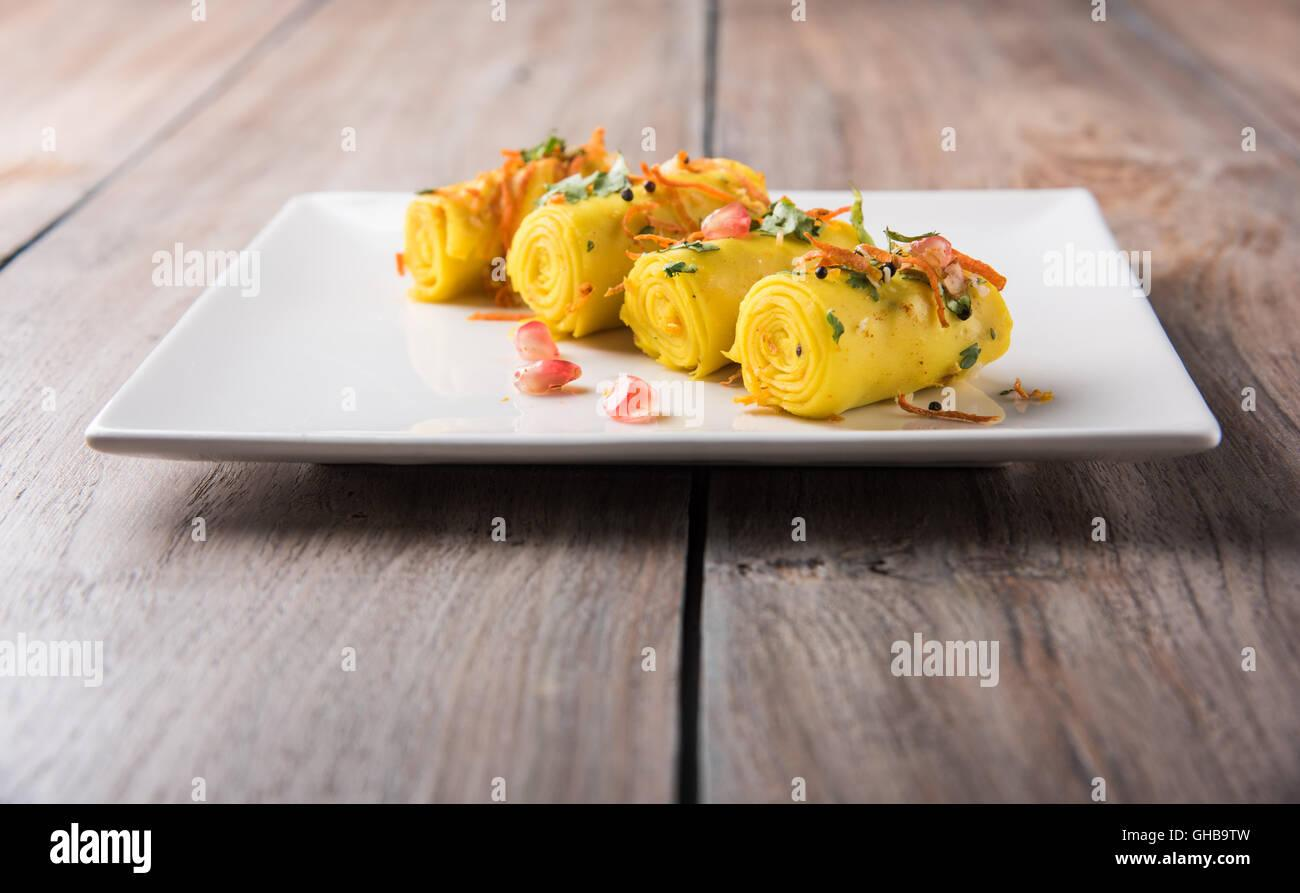khandvi: (368, 132, 1038, 420)
